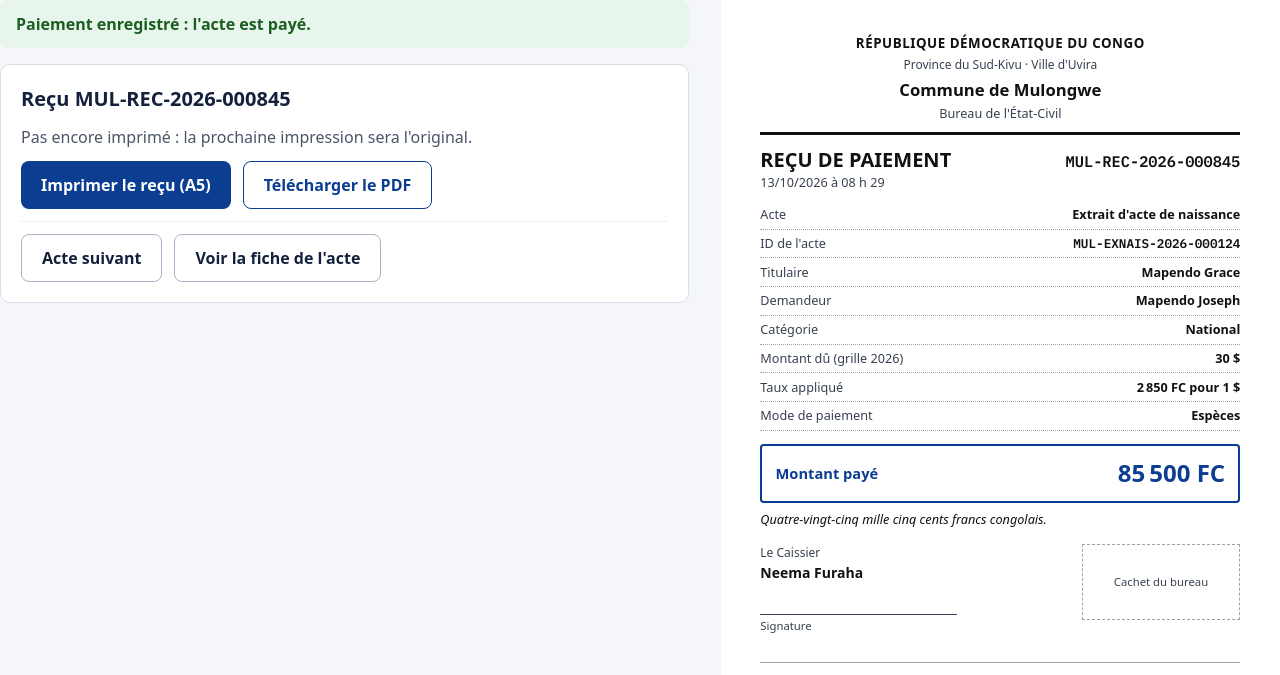
Imprimer le reçu › 1re impression : l'original ; ensuite l'aperçu annonce le duplicata
Expected: the text with test id "etat-impressions" reads "Pas encore imprimé : la prochaine impression sera l'original.", [21,126,472,148]
Click the button "Imprimer le reçu (A5)".
click(126, 185)  # box [21,161,231,209]
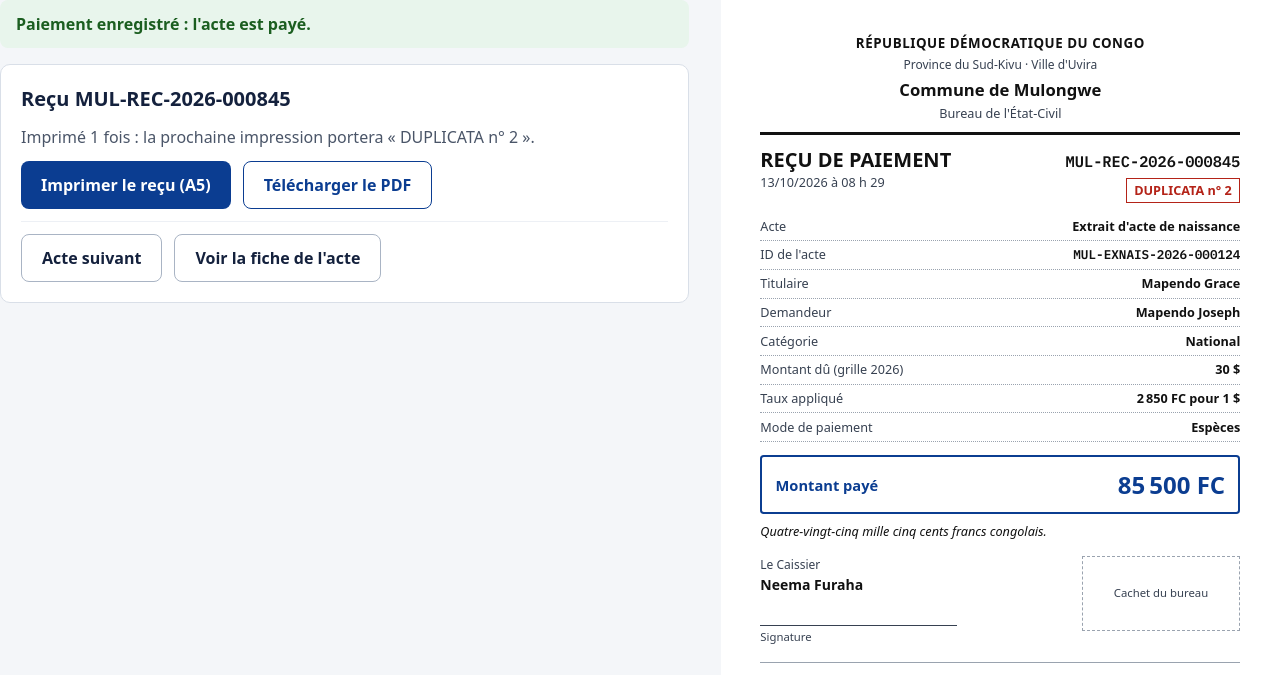
Result: the text with test id "etat-impressions" reads "Imprimé 1 fois : la prochaine impression portera « DUPLICATA n° 2 »." at [21,126,535,148]
Result: the text with test id "mention-duplicata" reads "DUPLICATA n° 2" at [1134,181,1232,199]
